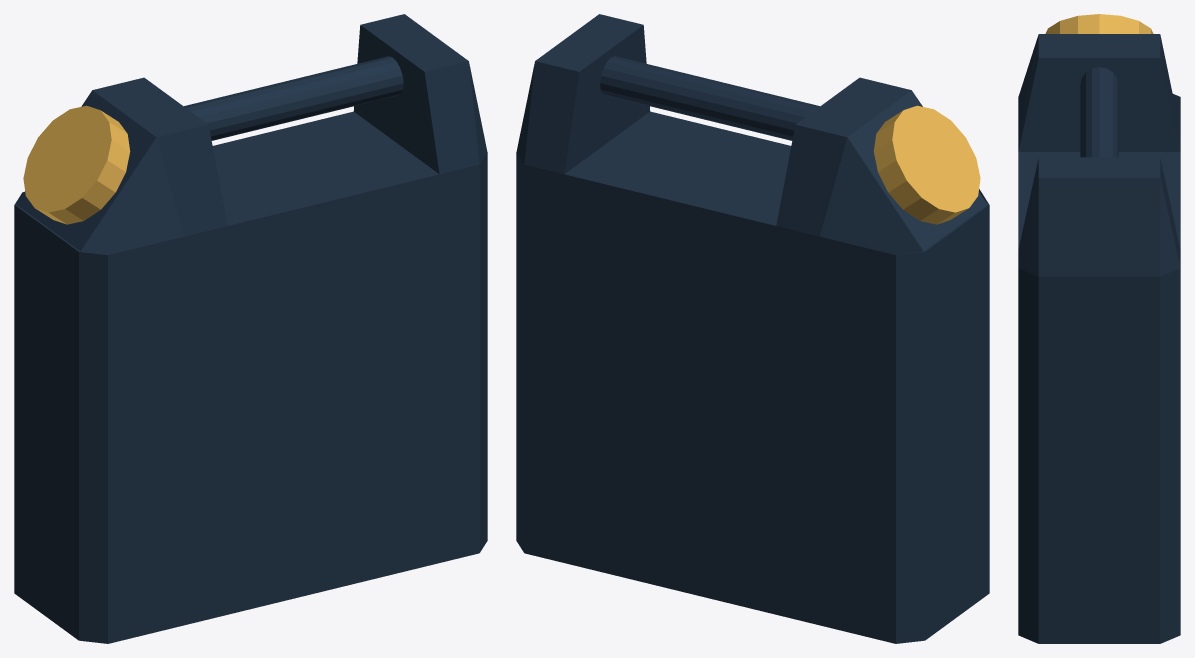
File: Fuel_emptyTank.fbx
The picture shows the model from 3 angles, left to right: view 1: azimuth 30°, elevation 25°; view 2: azimuth 150°, elevation 25°; view 3: azimuth 270°, elevation 25°; orthographic projection. The views are drawn at different scales.
Parts seen in each view (by area): view 1: Plane.002, Cylinder.004, Cylinder.006; view 2: Plane.002, Cylinder.004, Cylinder.006; view 3: Plane.002, Cylinder.006, Cylinder.004.
Boxes of the visible parts, box(x1,y1,x2,y2) form: Plane.002: box(14, 14, 487, 643); Cylinder.004: box(23, 105, 130, 224); Cylinder.006: box(184, 56, 403, 140); Plane.002: box(516, 14, 989, 643); Cylinder.004: box(873, 105, 980, 224); Cylinder.006: box(600, 56, 819, 140); Plane.002: box(1018, 34, 1180, 643); Cylinder.006: box(1080, 67, 1118, 157); Cylinder.004: box(1045, 14, 1153, 33).
Bounding box in the file's own units: 226 × 254 × 80.
